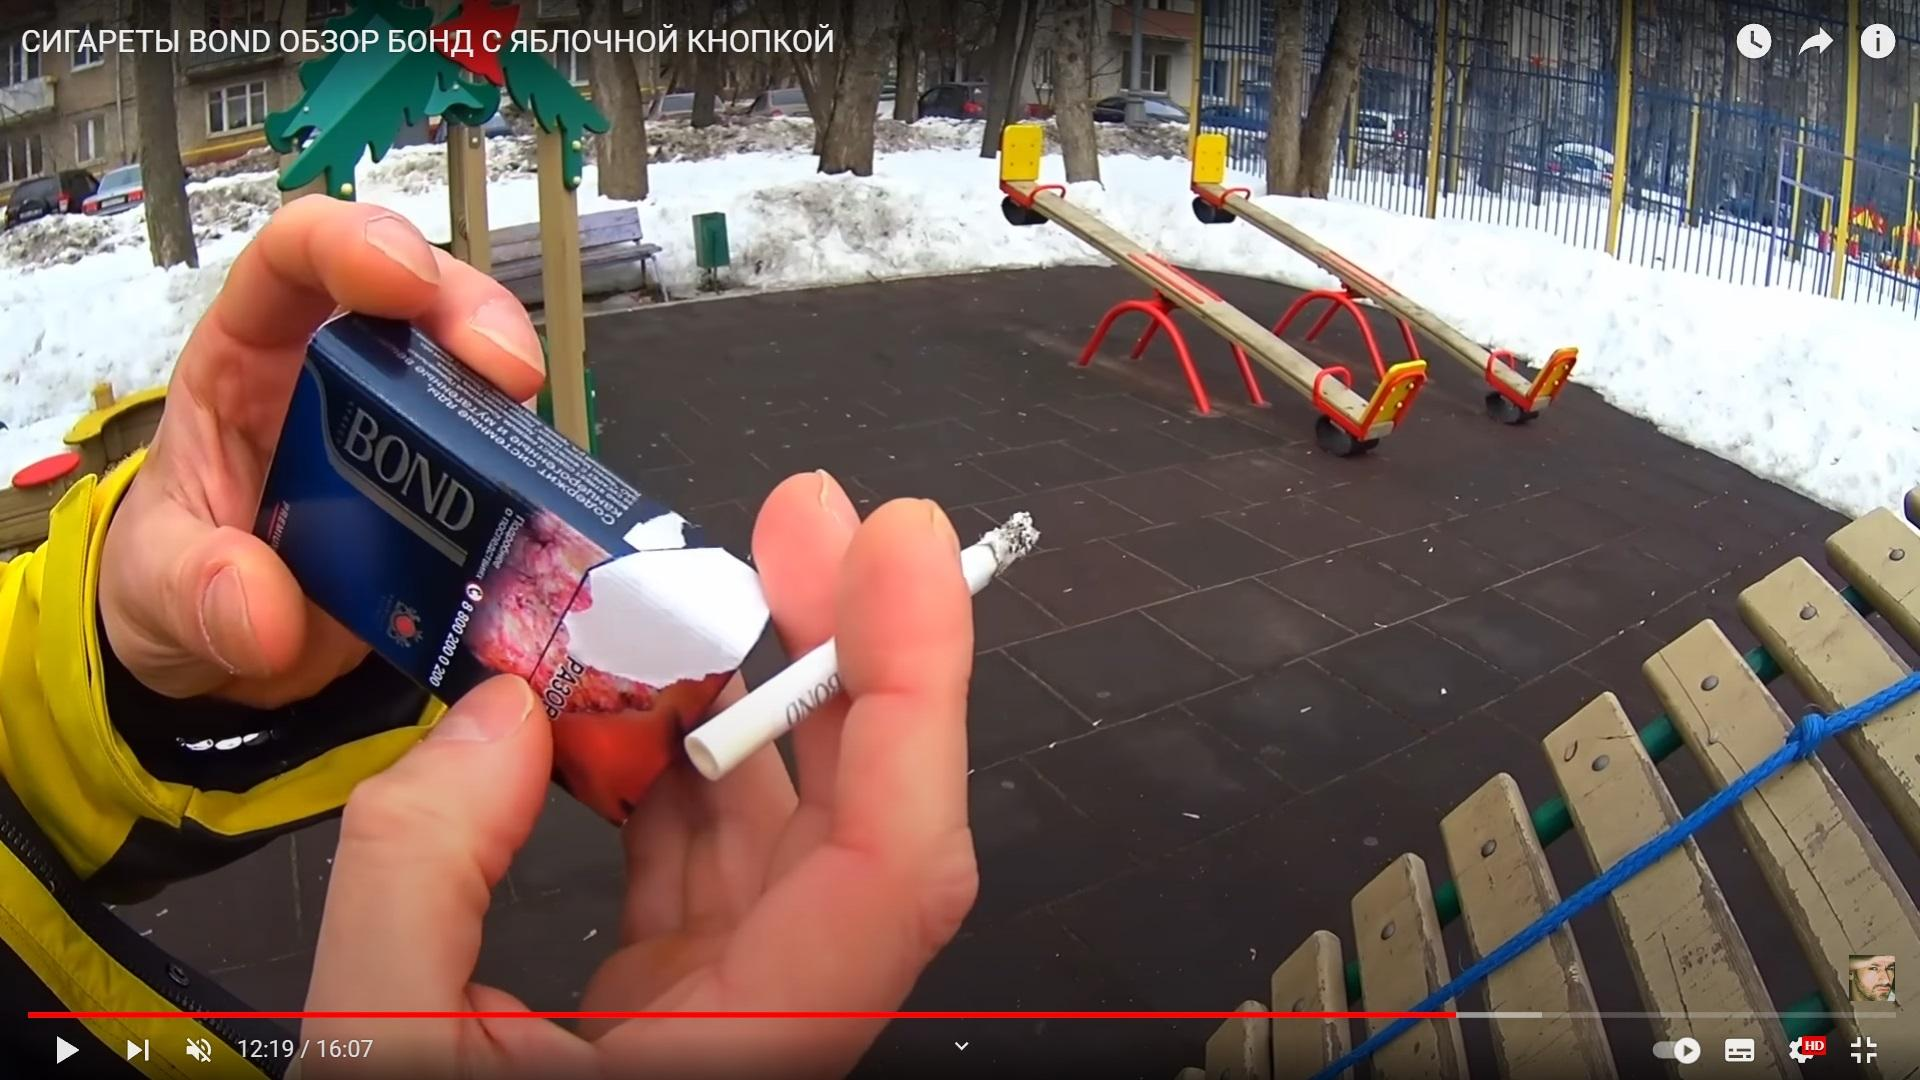cigarette: (687, 512, 1040, 782)
